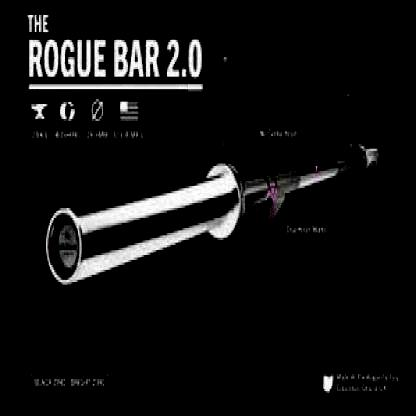Barbell: (42, 203, 91, 295)
